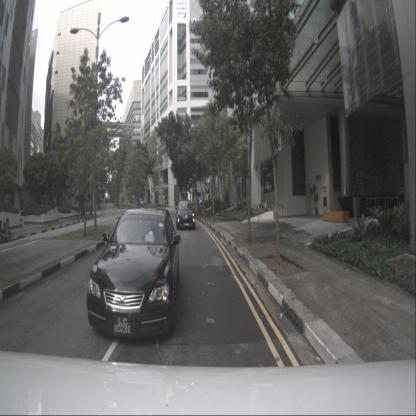vehicle-car: (87, 206, 179, 338), (176, 200, 196, 230), (138, 198, 144, 206)
vehicle-motorcycle: (0, 217, 14, 244)
